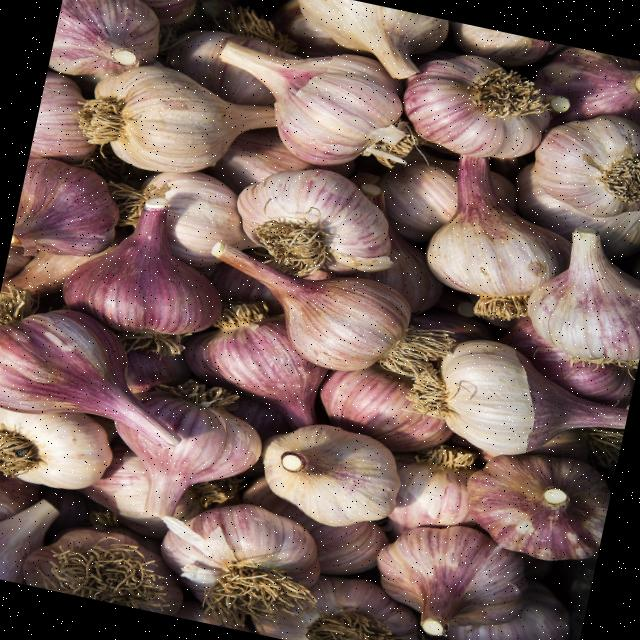garlic: (212, 242, 455, 419), (219, 41, 417, 167), (61, 198, 220, 334), (72, 65, 274, 172), (425, 155, 570, 296), (160, 503, 319, 629), (236, 169, 391, 276), (401, 55, 549, 158), (262, 424, 399, 526), (533, 115, 640, 217)
